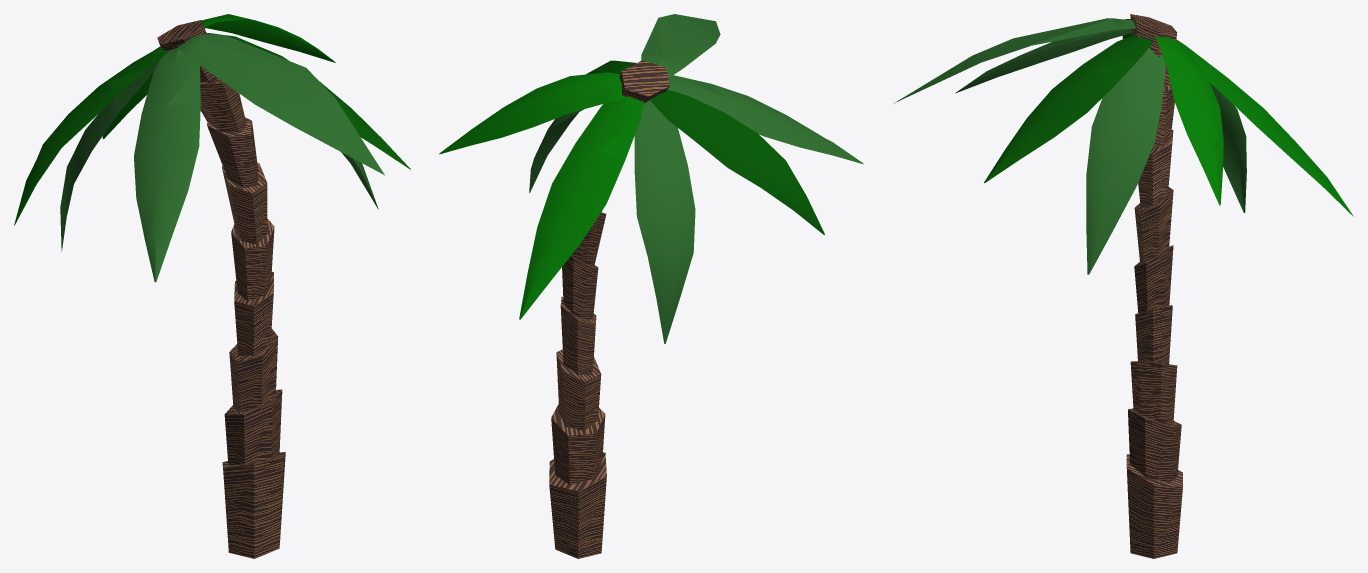
Rendered from coconut_tree.fbx.
3 renders of one model, left to right at view 1: azimuth 30°, elevation 25°; view 2: azimuth 150°, elevation 25°; view 3: azimuth 270°, elevation 25°, orthographic. The views are drawn at different scales.
Parts seen in each view (by area): view 1: leaf, tree; view 2: leaf, tree; view 3: leaf, tree.
Part boxes in pixels (left/top/right/bottom): leaf: left=14, top=14, right=410, bottom=282; tree: left=157, top=20, right=285, bottom=558; leaf: left=439, top=14, right=863, bottom=343; tree: left=549, top=60, right=669, bottom=558; leaf: left=893, top=18, right=1353, bottom=274; tree: left=1126, top=14, right=1182, bottom=558.
Size of the model in its own units: 11.12 by 15.47 by 12.85.
Materials: 4 (1 with a texture image).
